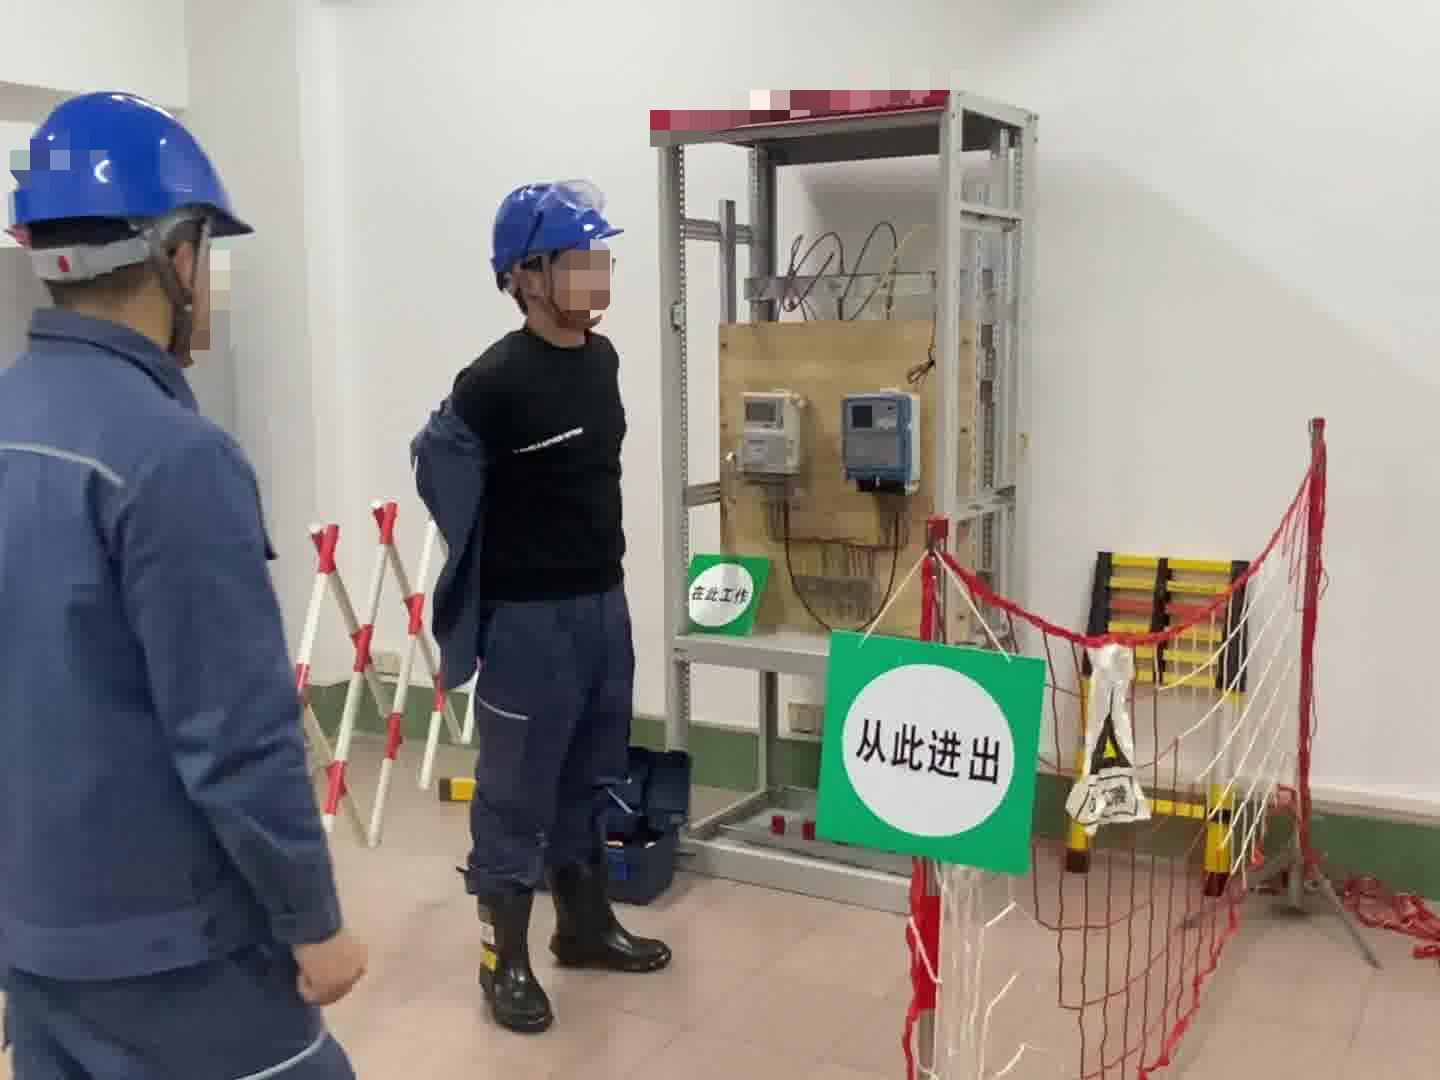halt: (3, 88, 259, 364), (488, 180, 628, 345)
inear: (150, 218, 218, 349), (508, 259, 566, 320)
